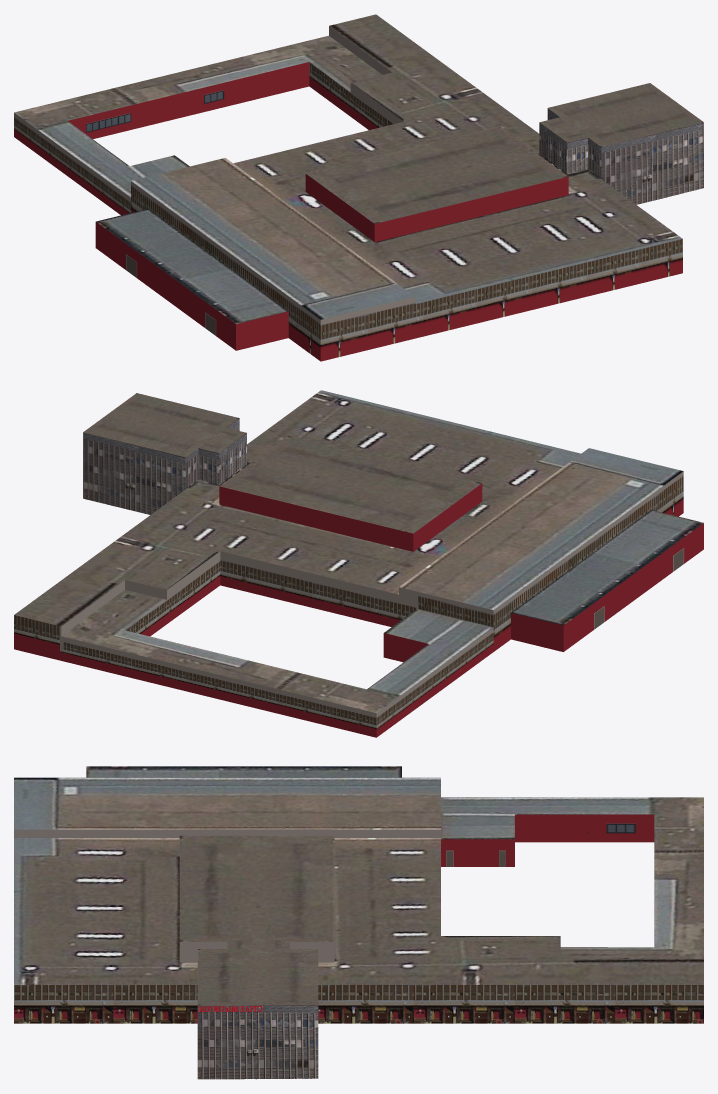
File: Sh_Cargo.fbx
3 views of the same model, one above another, from view 1: azimuth 30°, elevation 25°; view 2: azimuth 150°, elevation 25°; view 3: azimuth 270°, elevation 25° (orthographic). The views are drawn at different scales.
Parts seen in each view (by area): view 1: Polygon; view 2: Polygon; view 3: Polygon.
Boxes of the visible parts, box(x1,y1,x2,y2) form: Polygon: box(14, 14, 703, 361); Polygon: box(14, 390, 703, 737); Polygon: box(14, 766, 703, 1079).
Bounding box in the file's own units: 195 × 23.8 × 200.
Materials: 1 (1 with a texture image).
